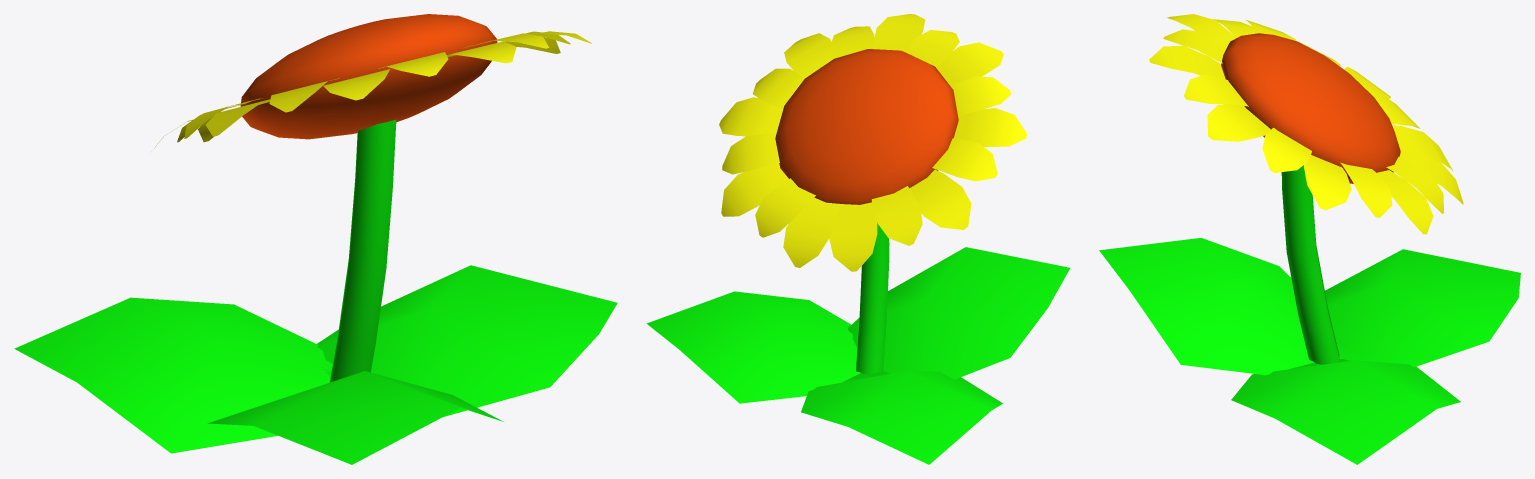
The model's file is Demo_Object_01.fbx.
3 views of the same model, side by side, from view 1: azimuth 30°, elevation 25°; view 2: azimuth 150°, elevation 25°; view 3: azimuth 270°, elevation 25° (orthographic). The views are drawn at different scales.
Visible parts, largest first — view 1: Sunflower; view 2: Sunflower; view 3: Sunflower.
Part boxes in pixels (x1,y1,x2,y2): Sunflower: [14, 14, 617, 464]; Sunflower: [646, 14, 1070, 464]; Sunflower: [1099, 14, 1520, 464].
Bounding box in the file's own units: 73.67 × 57.72 × 66.76.
1 material, 1 textured.
